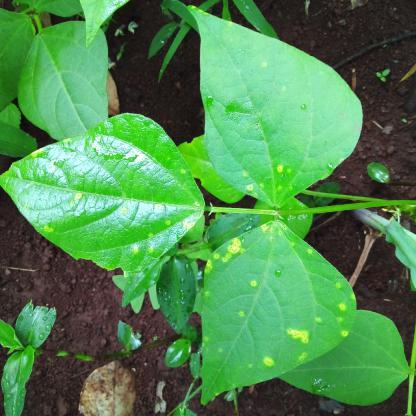Beans_Rust: (187, 7, 366, 206), (0, 117, 212, 284), (196, 220, 350, 404)
